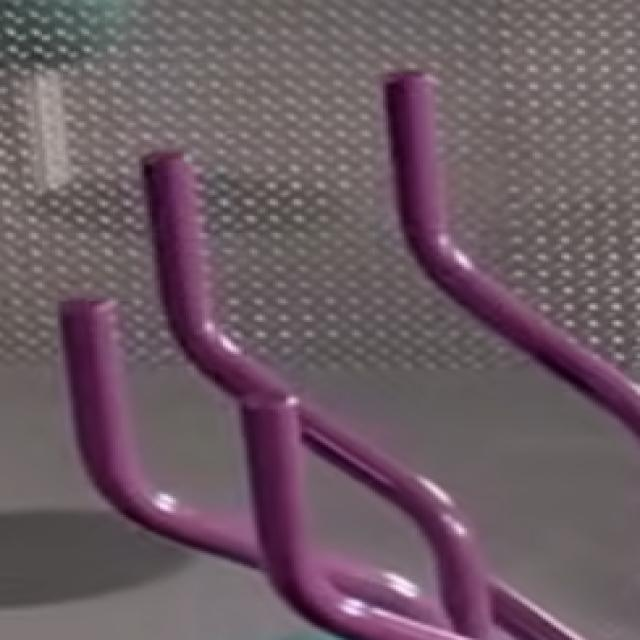Reef: (238, 390, 316, 610), (60, 300, 126, 517), (143, 150, 215, 339), (382, 71, 440, 290)
